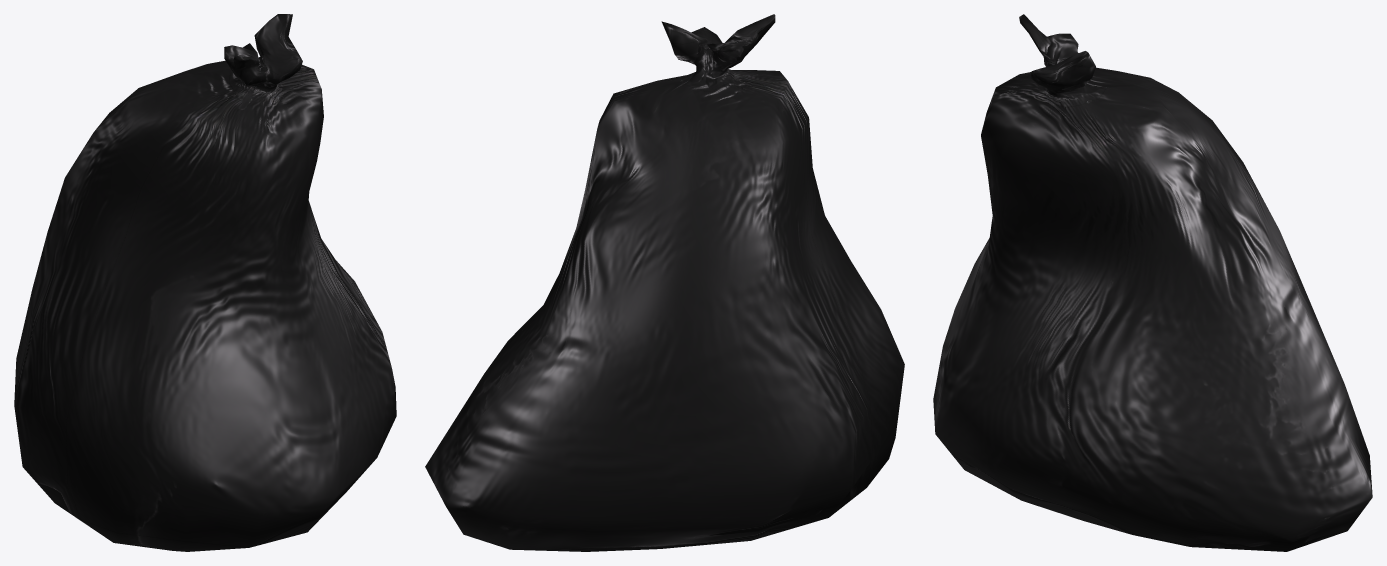
File: GarbageBag_GameReady.glb
The picture shows the model from 3 angles, left to right: view 1: azimuth 30°, elevation 25°; view 2: azimuth 150°, elevation 25°; view 3: azimuth 270°, elevation 25°; orthographic projection. The views are drawn at different scales.
Visible parts, largest first — view 1: LowPolyGB; view 2: LowPolyGB; view 3: LowPolyGB.
Boxes of the visible parts, box(x1,y1,x2,y2) form: LowPolyGB: box(14, 14, 396, 551); LowPolyGB: box(425, 14, 904, 551); LowPolyGB: box(933, 14, 1372, 551).
Bounding box in the file's own units: 0.537 × 0.6427 × 0.5642.
1 material, 1 textured.
